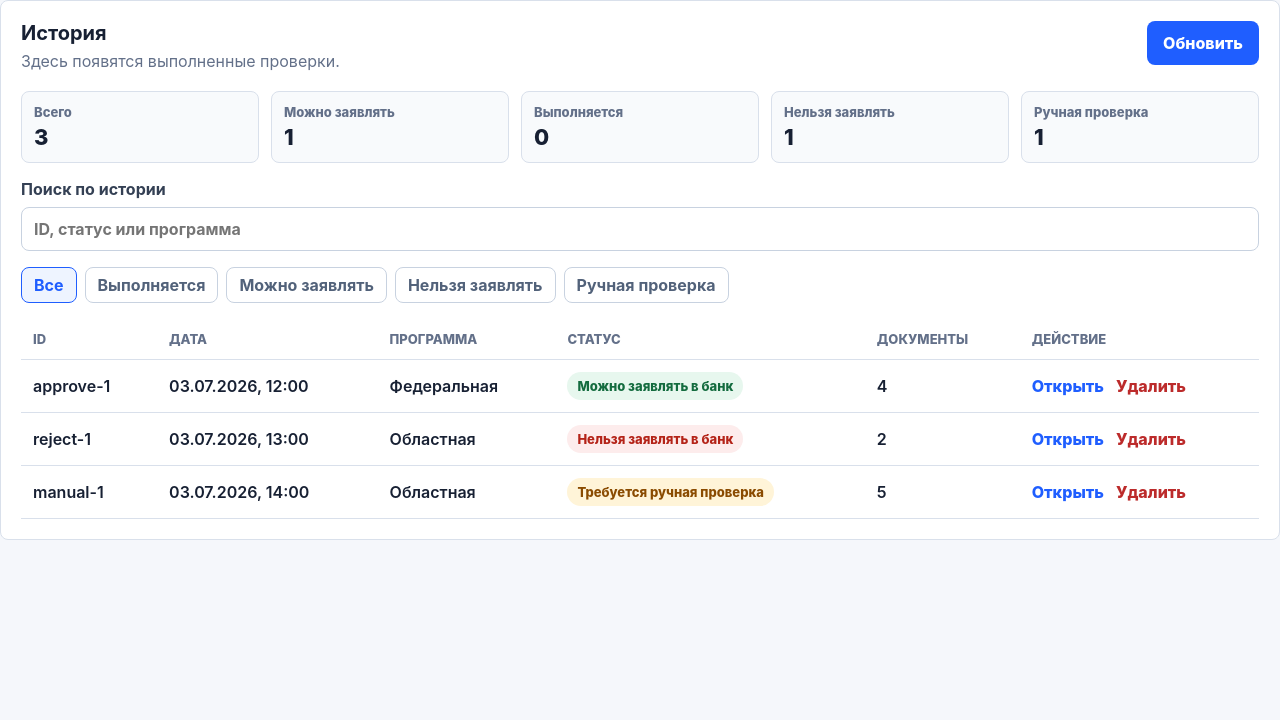
HistoryTable › deletes check after confirmation
The width and height of the screenshot is (1280, 720).
Expected: the text "approve-1" is shown, [21,360,157,412]
Click the button "Удалить" in the row of "approve-1" at (1151, 386), box [1116,376,1186,396]
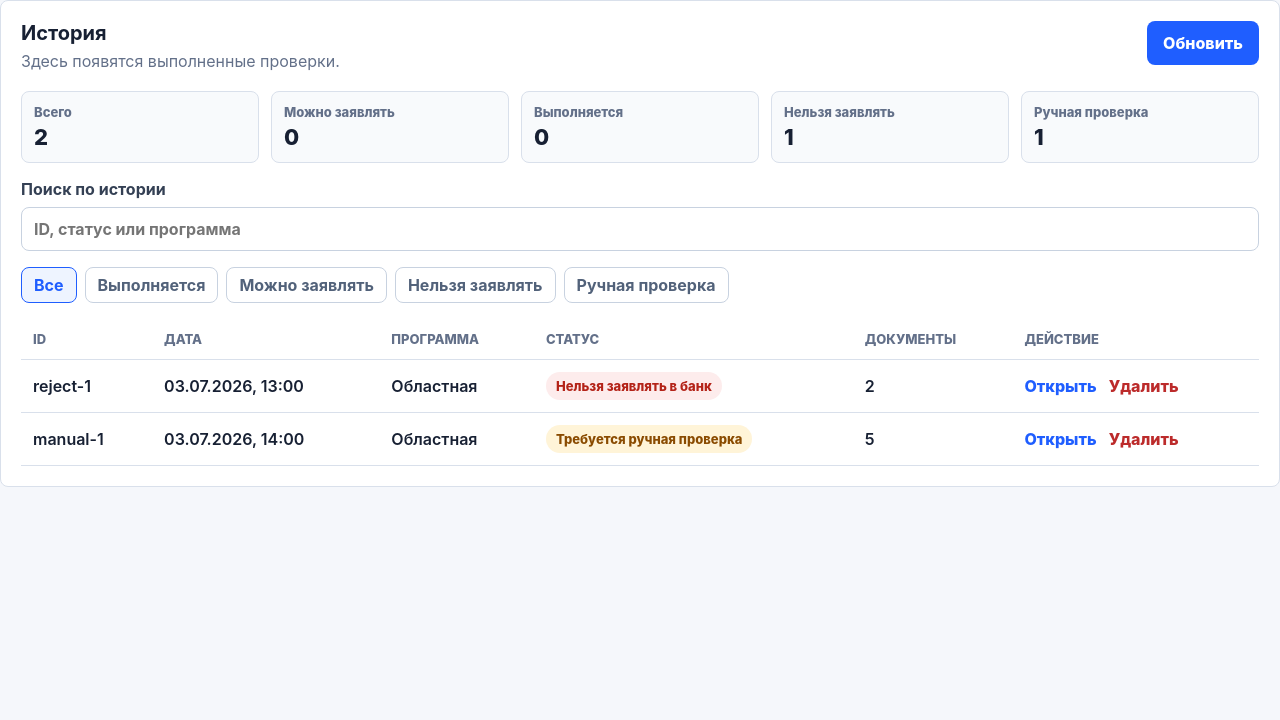
Expected: the text "approve-1" is gone
